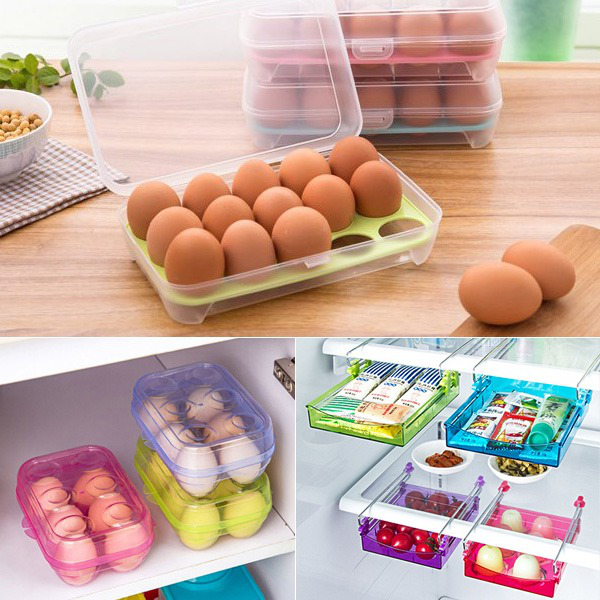egg: (120, 134, 402, 288), (24, 464, 153, 571), (451, 236, 577, 328), (141, 387, 265, 480), (476, 509, 556, 585)
